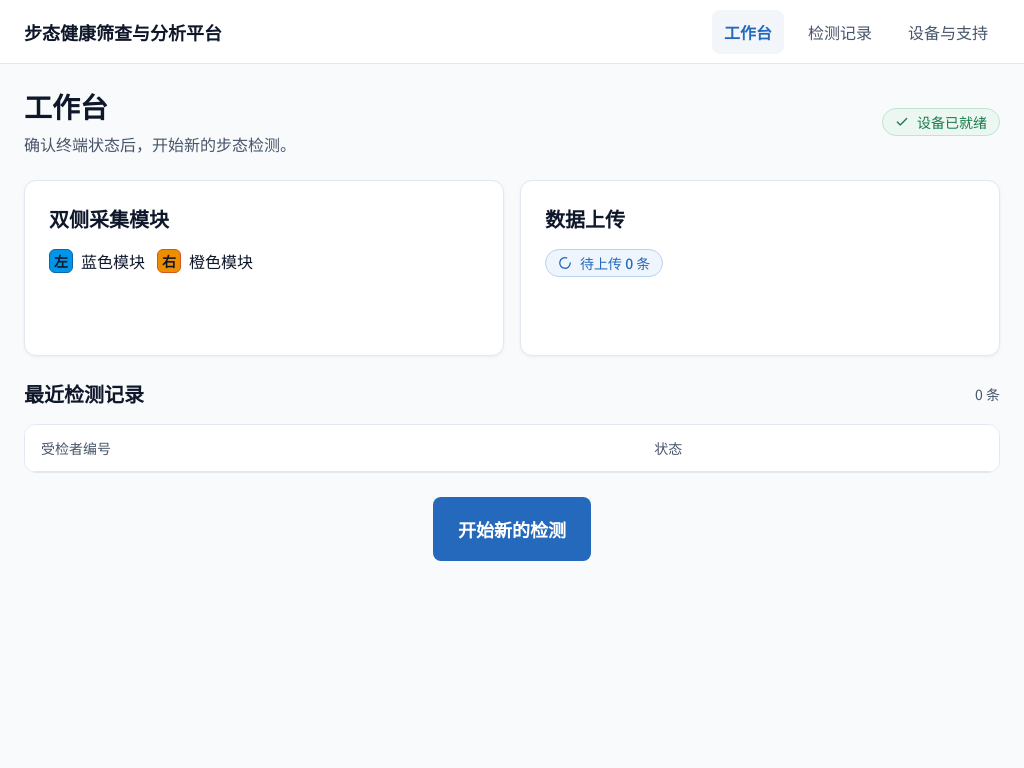
Scenario: B1：回到工作台时重拉快照 › 已在工作台时再点「工作台」也会重拉
This screenshot has width=1024, height=768.
Expected: the heading "工作台" is shown, [24,86,108,126]
Expected: the text "待上传 0 条" is shown, [545,249,663,277]
Click the button "工作台". click: (748, 32)
box: [712,10,784,54]
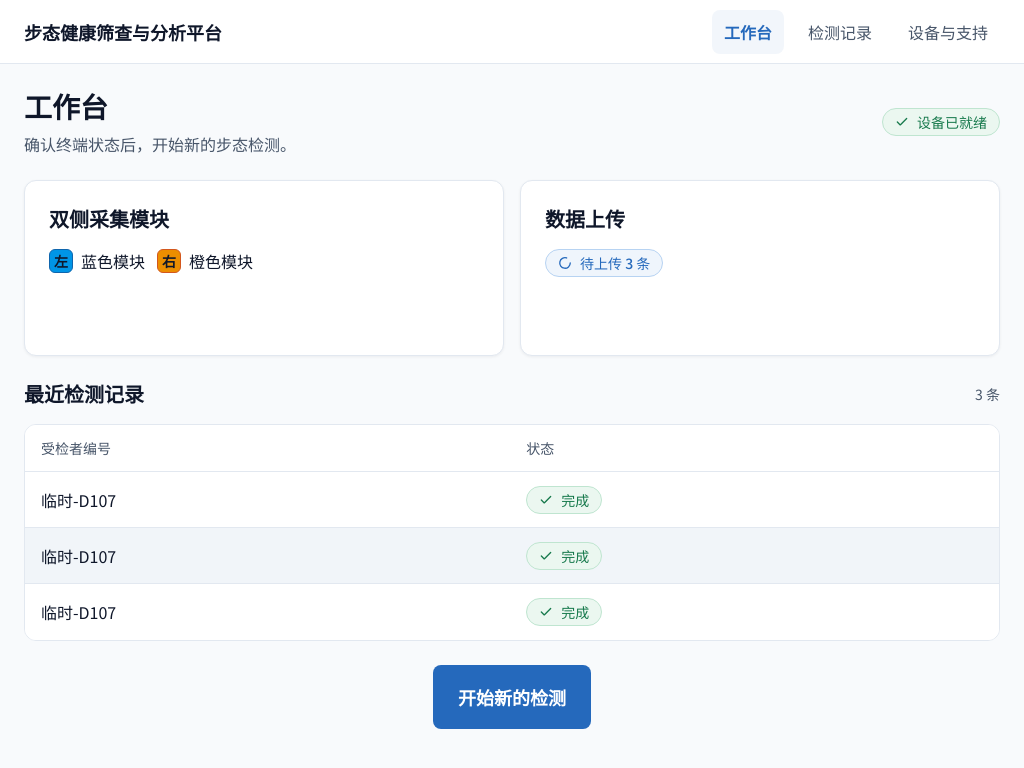
Expected: the heading "工作台" is shown, [24,86,108,126]
Now the text "3 条" is shown, box [975,383,1000,405]
